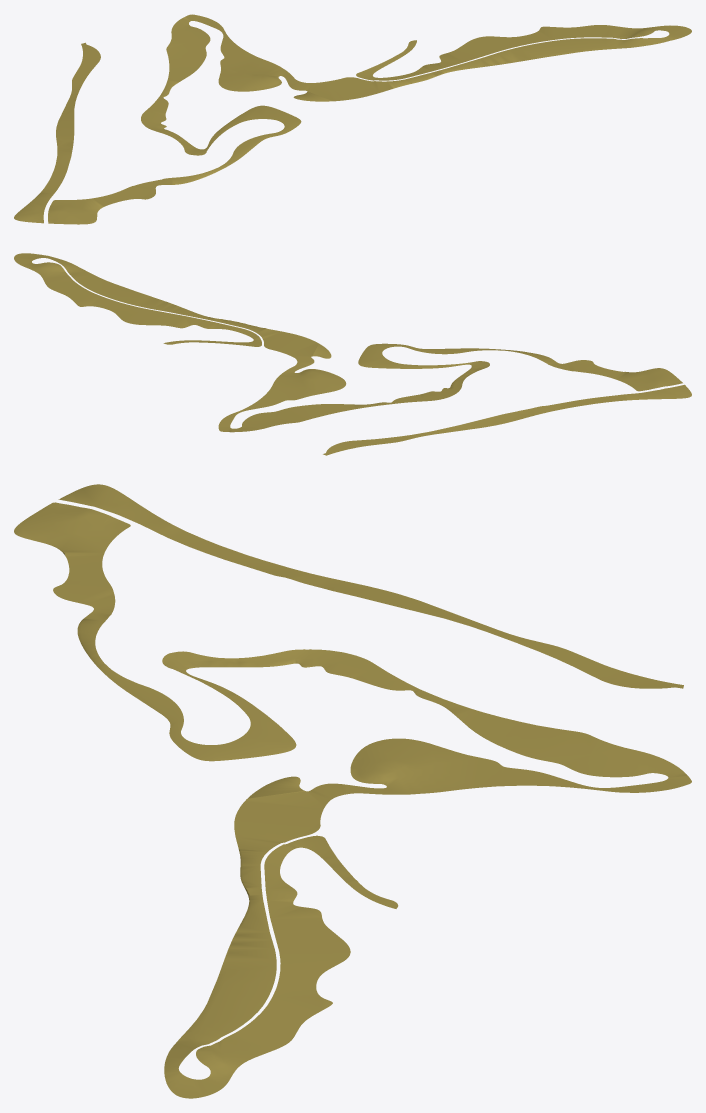
The model's file is 15_Eco_Park_01.glb.
3 views of the same model, one above another, from view 1: azimuth 30°, elevation 25°; view 2: azimuth 150°, elevation 25°; view 3: azimuth 270°, elevation 25° (orthographic). The views are drawn at different scales.
Visible parts, largest first — view 1: 15_Eco_Park_01; view 2: 15_Eco_Park_01; view 3: 15_Eco_Park_01.
Boxes of the visible parts, left/top/right/bottom form: 15_Eco_Park_01: left=14, top=14, right=691, bottom=224; 15_Eco_Park_01: left=14, top=253, right=691, bottom=455; 15_Eco_Park_01: left=14, top=484, right=691, bottom=1098.
Bounding box in the file's own units: 578 × 2.51 × 270.
